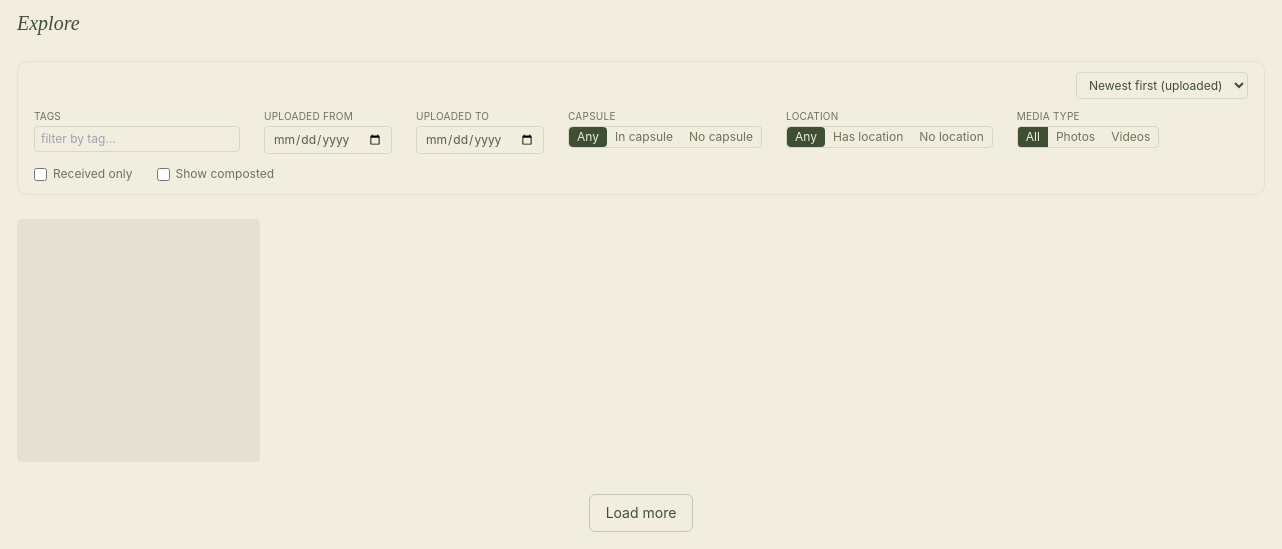
Test: ExplorePage › Load more appends next page of items
Click the button "Load more" at {"x": 641, "y": 513}, box [589,494,693,532]
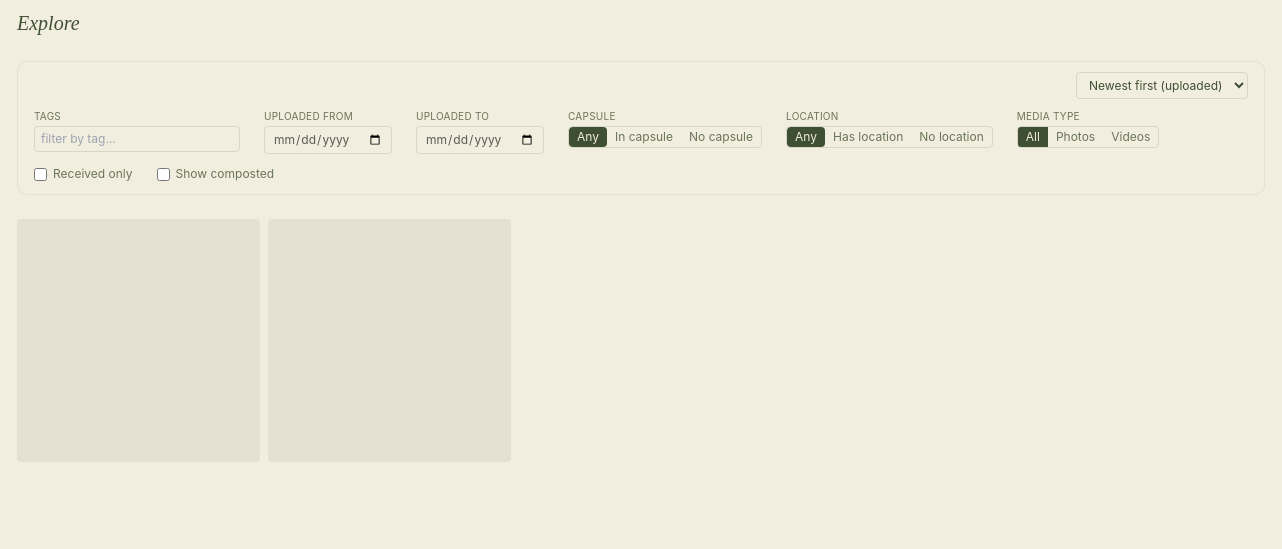
Check: the button "Load more" is gone
